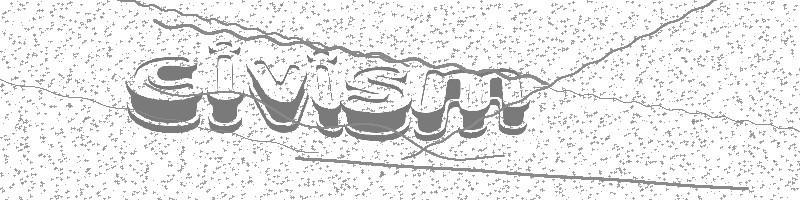c: (124, 55, 205, 135)
i: (205, 39, 245, 135), (307, 48, 345, 138)
m: (412, 68, 530, 142)
s: (341, 64, 412, 142)
v: (246, 59, 308, 133)
